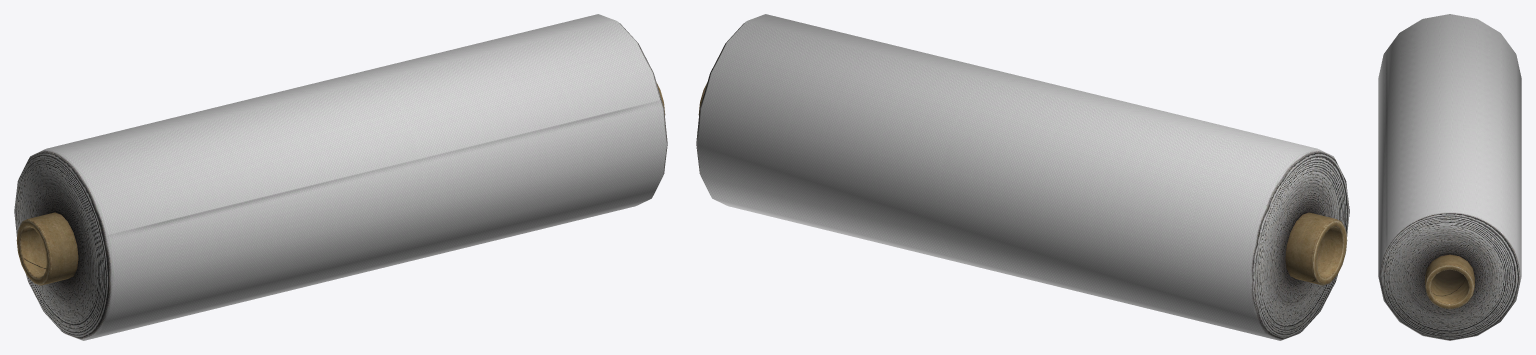
File: wallpaper_roll.dae
The picture shows the model from 3 angles, left to right: view 1: azimuth 30°, elevation 25°; view 2: azimuth 150°, elevation 25°; view 3: azimuth 270°, elevation 25°; orthographic projection. The views are drawn at different scales.
Visible parts, largest first — view 1: pCylinder1; view 2: pCylinder1; view 3: pCylinder1.
Part boxes in pixels (x1=…): pCylinder1: x1=14, y1=14, x2=667, y2=340; pCylinder1: x1=696, y1=14, x2=1349, y2=340; pCylinder1: x1=1378, y1=14, x2=1521, y2=340.
Bounding box in the file's own units: 1.14 × 0.316 × 0.316.
1 material, 1 textured.
